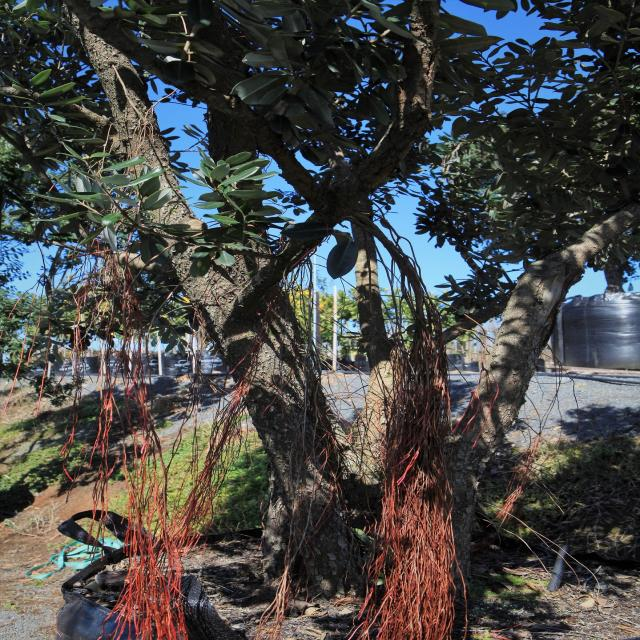Pohutukawa: (8, 1, 640, 640)
